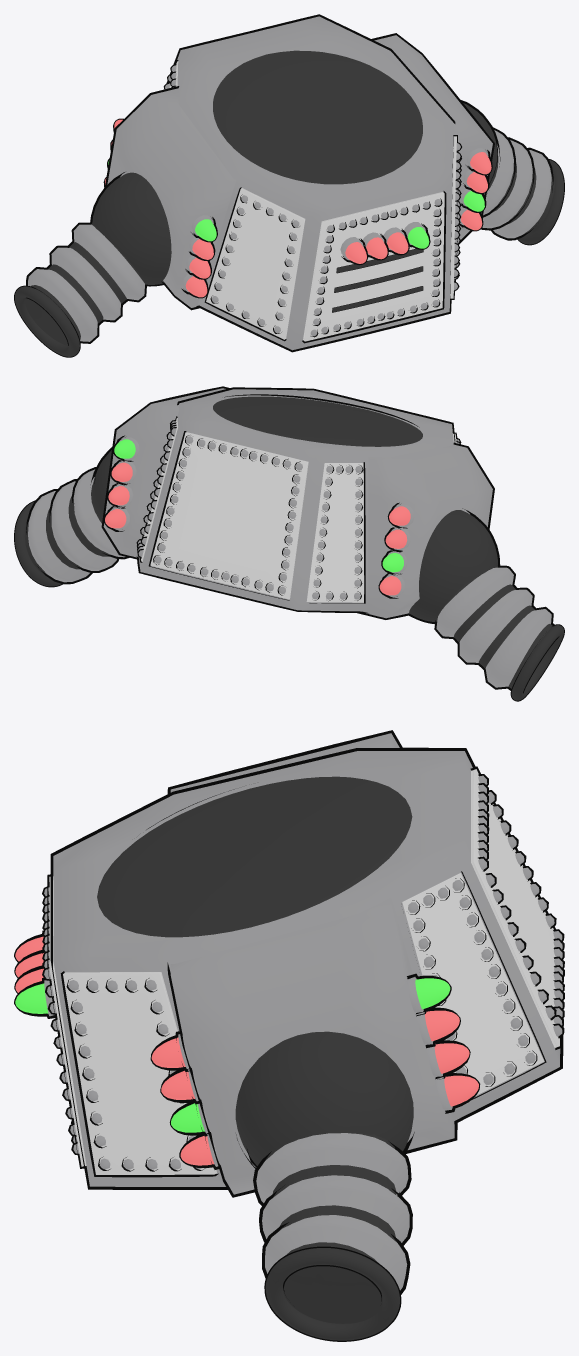
Rendered from TORSO.PHYSICS.ROBOT.glb.
The picture shows the model from 3 angles, top to bottom: view 1: azimuth 30°, elevation 25°; view 2: azimuth 150°, elevation 25°; view 3: azimuth 270°, elevation 25°; orthographic projection. The views are drawn at different scales.
Parts seen in each view (by area): view 1: TORSO.PHYSICS.ROBOT.252; view 2: TORSO.PHYSICS.ROBOT.252; view 3: TORSO.PHYSICS.ROBOT.252.
Boxes of the visible parts, x1,y1,x2,y2 form: TORSO.PHYSICS.ROBOT.252: (14, 14, 564, 357); TORSO.PHYSICS.ROBOT.252: (14, 386, 564, 701); TORSO.PHYSICS.ROBOT.252: (14, 730, 564, 1341).
Bounding box in the file's own units: 2.11 × 0.8955 × 1.22.
